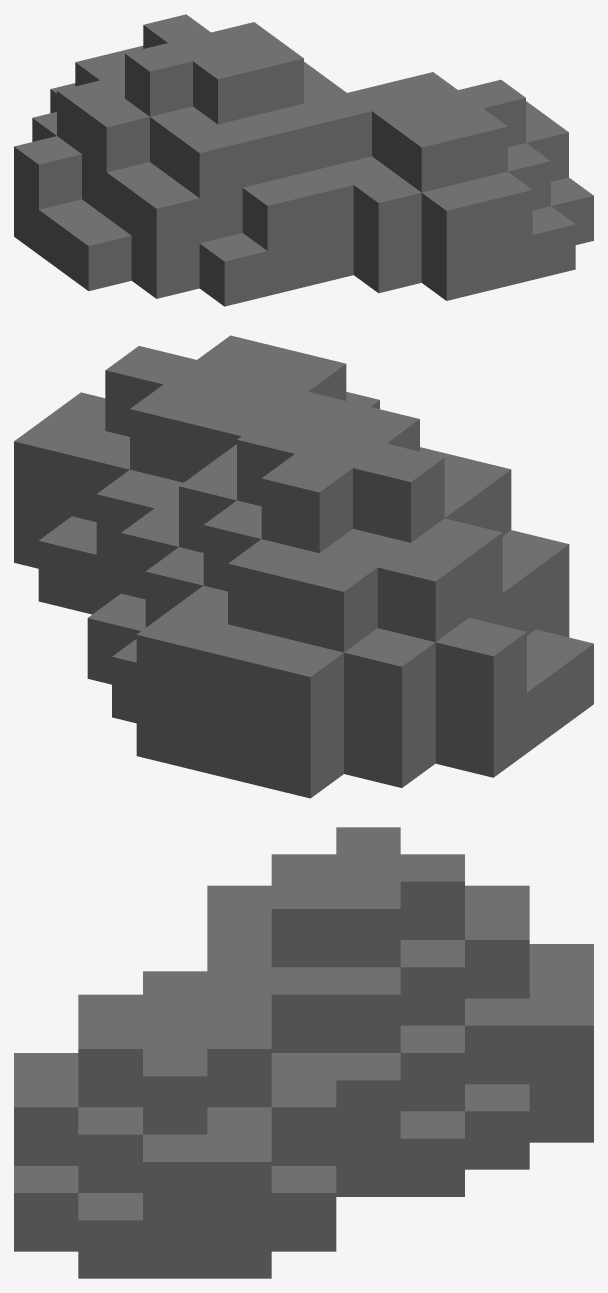
The model's file is rock2.vox.obj.
3 renders of one model, top to bottom at view 1: azimuth 30°, elevation 25°; view 2: azimuth 150°, elevation 25°; view 3: azimuth 270°, elevation 25°, orthographic. The views are drawn at different scales.
Size of the model in its own units: 1 by 0.4 by 0.9.
1 material, 1 textured.
